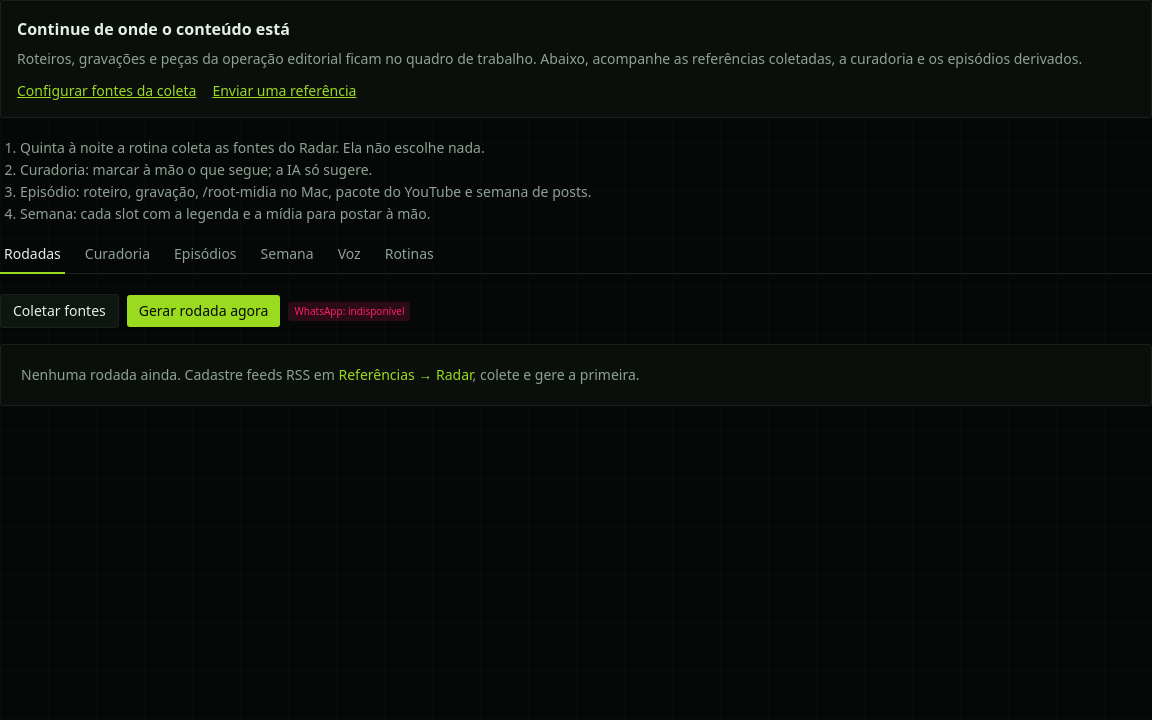
Test case: o episódio nasce da rodada curada › a página tem a aba Episódios, e ela abre a lista
The width and height of the screenshot is (1152, 720).
What coordinates should you click on to do the following:
click the button "Episódios"
I would click on:
 (205, 259)
Its box is [170,244,241,274].
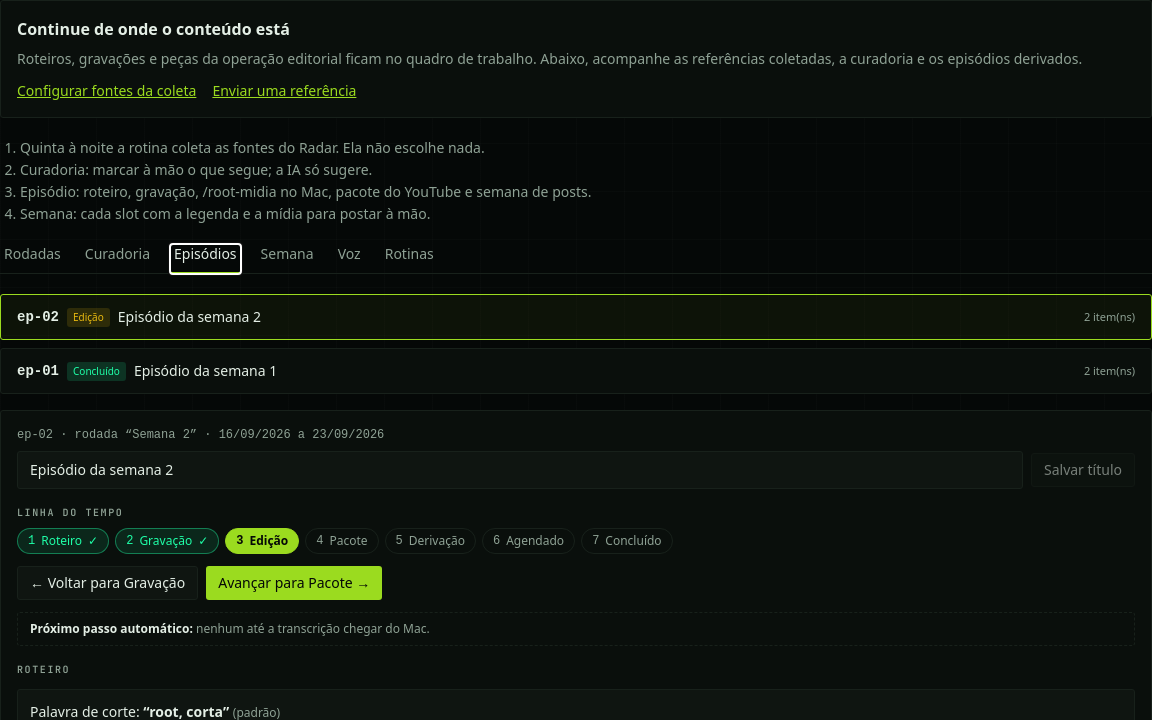
Expected: the list named "Episódios" is shown, [0,294,1151,394]
